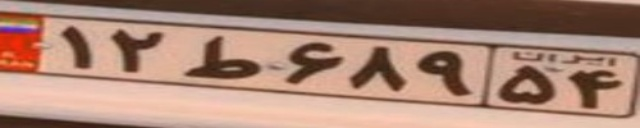1: (57, 26, 94, 69)
2: (108, 30, 164, 72)
4: (566, 68, 622, 109)
5: (491, 65, 557, 104)
6: (282, 41, 343, 85)
8: (347, 45, 408, 90)
9: (415, 50, 471, 96)
taa: (181, 34, 260, 79)
